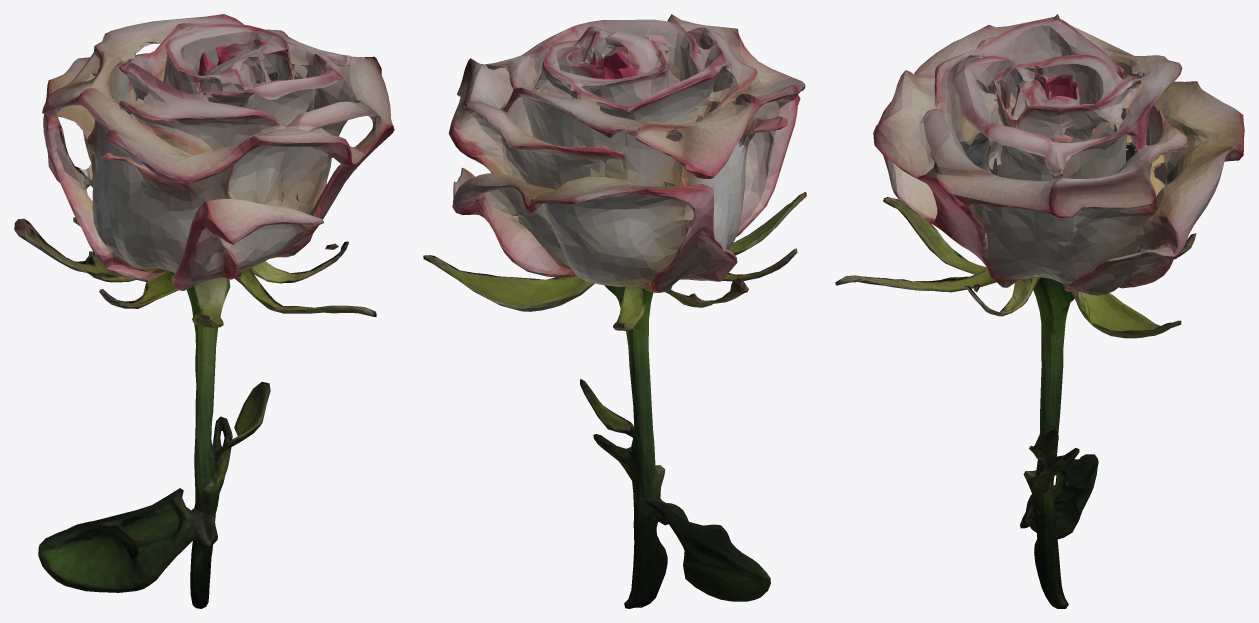
3 renders of one model, left to right at view 1: azimuth 30°, elevation 25°; view 2: azimuth 150°, elevation 25°; view 3: azimuth 270°, elevation 25°, orthographic.
Visible parts, largest first — view 1: world; view 2: world; view 3: world.
Part boxes in pixels (<box>): world: <box>14,14,394,608</box>; world: <box>423,14,806,608</box>; world: <box>835,14,1244,608</box>.
Bounding box in the file's own units: 0.5711 × 0.9419 × 0.6311.
Materials: 1 (1 with a texture image).
